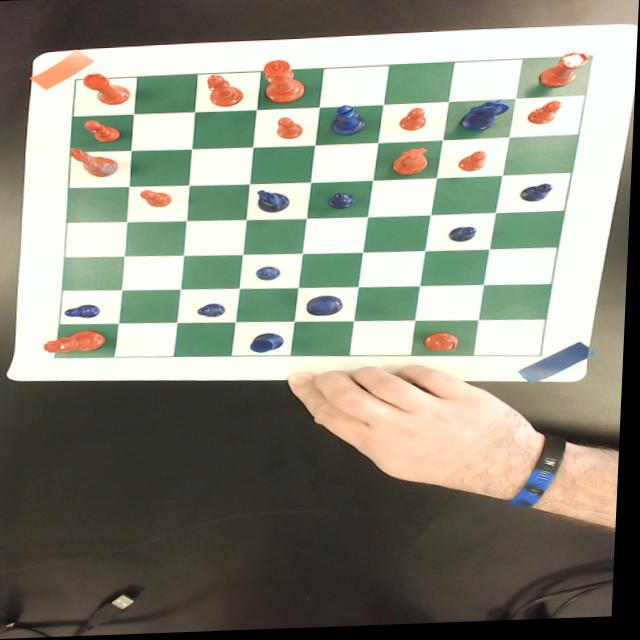B: (332, 107, 368, 138)
K: (307, 297, 348, 318)
N: (460, 102, 513, 134), (257, 190, 292, 215)
P: (520, 187, 555, 206), (67, 304, 103, 319), (329, 193, 357, 212), (450, 229, 479, 245), (258, 266, 285, 282), (200, 304, 228, 319)
R: (254, 334, 289, 355)
b: (206, 75, 244, 108), (427, 334, 464, 355)
cb: (58, 60, 594, 359)
k: (263, 60, 309, 105)
n: (69, 146, 121, 177), (392, 148, 433, 178)
p: (83, 118, 124, 143), (526, 103, 564, 129), (400, 109, 431, 134), (276, 117, 306, 142), (141, 189, 176, 209), (460, 153, 489, 175)
q: (45, 329, 110, 353)
r: (537, 55, 591, 91), (81, 72, 134, 107)
